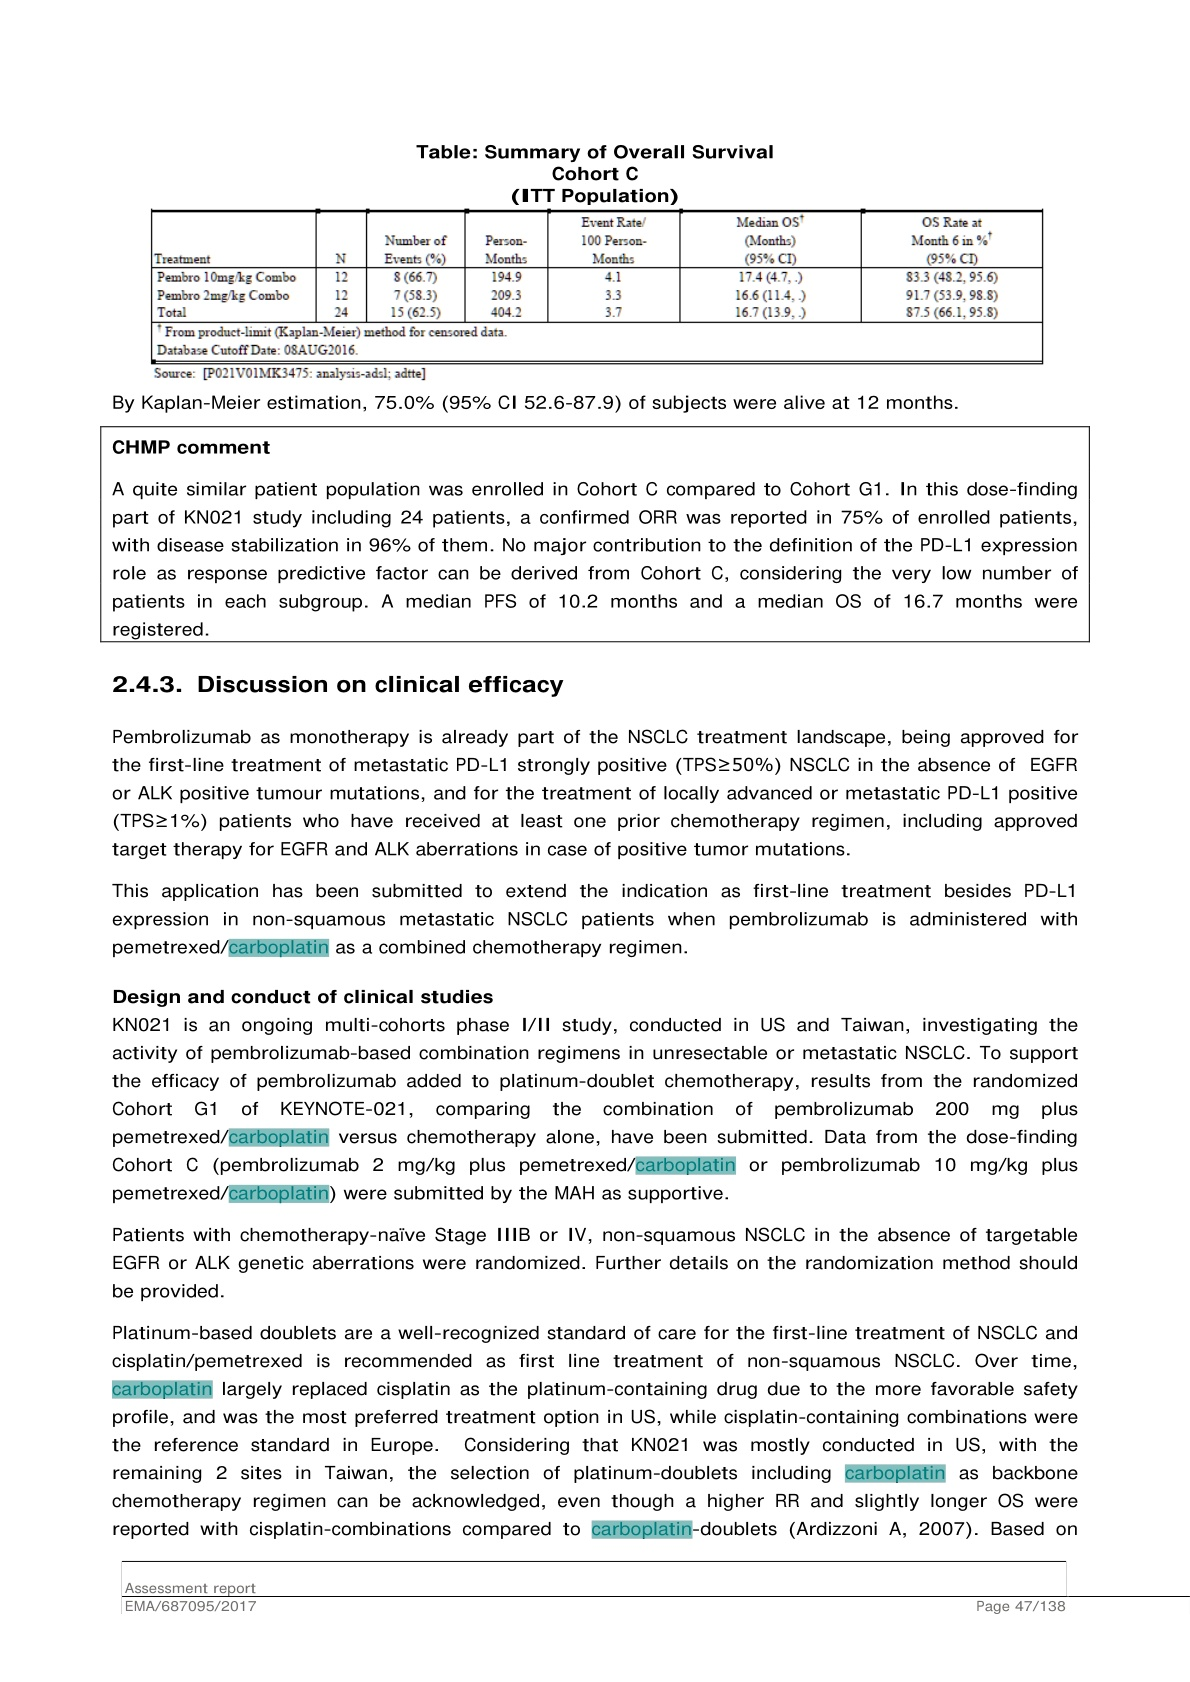merged_cells: (149, 209, 1044, 364)
